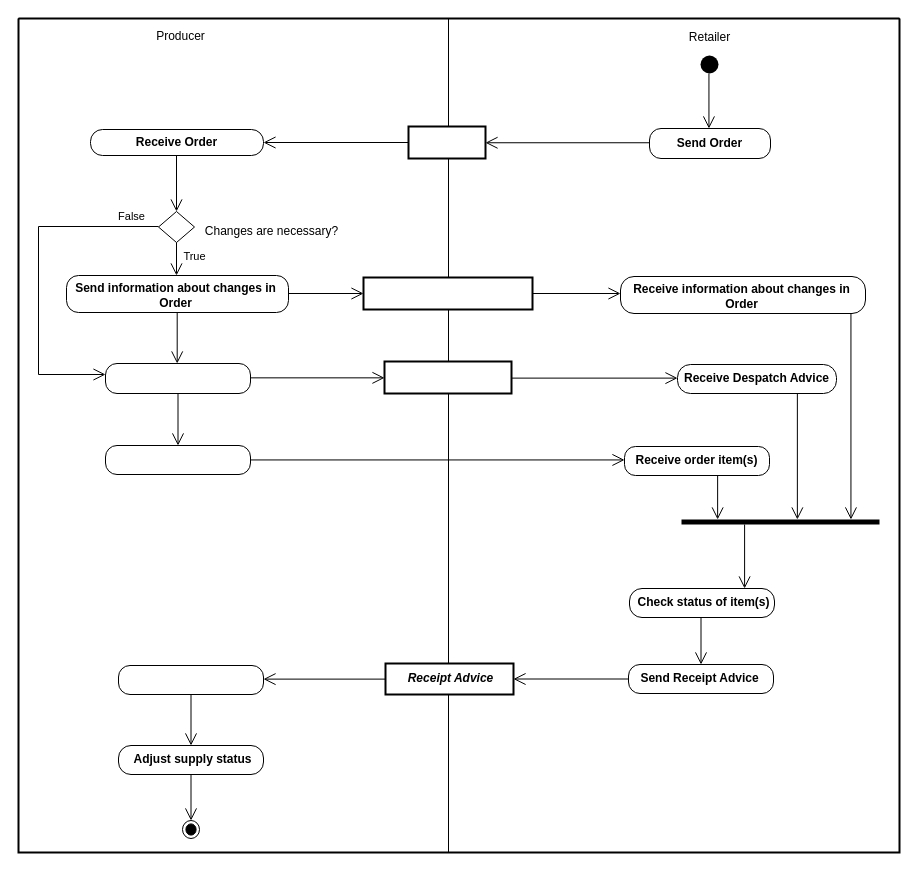
Image size: 917x870. Some labels were removed from this diagram. The shapes that lost their labels are listed below. From the top down, each one's centre as x and y in pixels, then its label:
At point (446, 142): "Order".
At point (447, 293): "Order Response".
At point (177, 378): "Send Despatch Advice".
At point (447, 377): "Despatch Advice".
At point (177, 459): "Despatch order item(s)".
At point (191, 679): "Receive Receipt Advice".
